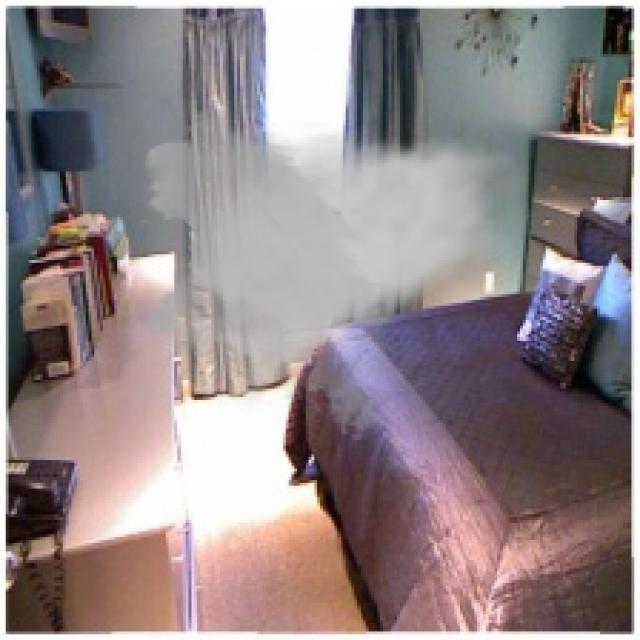Smoke: (135, 97, 514, 443)
